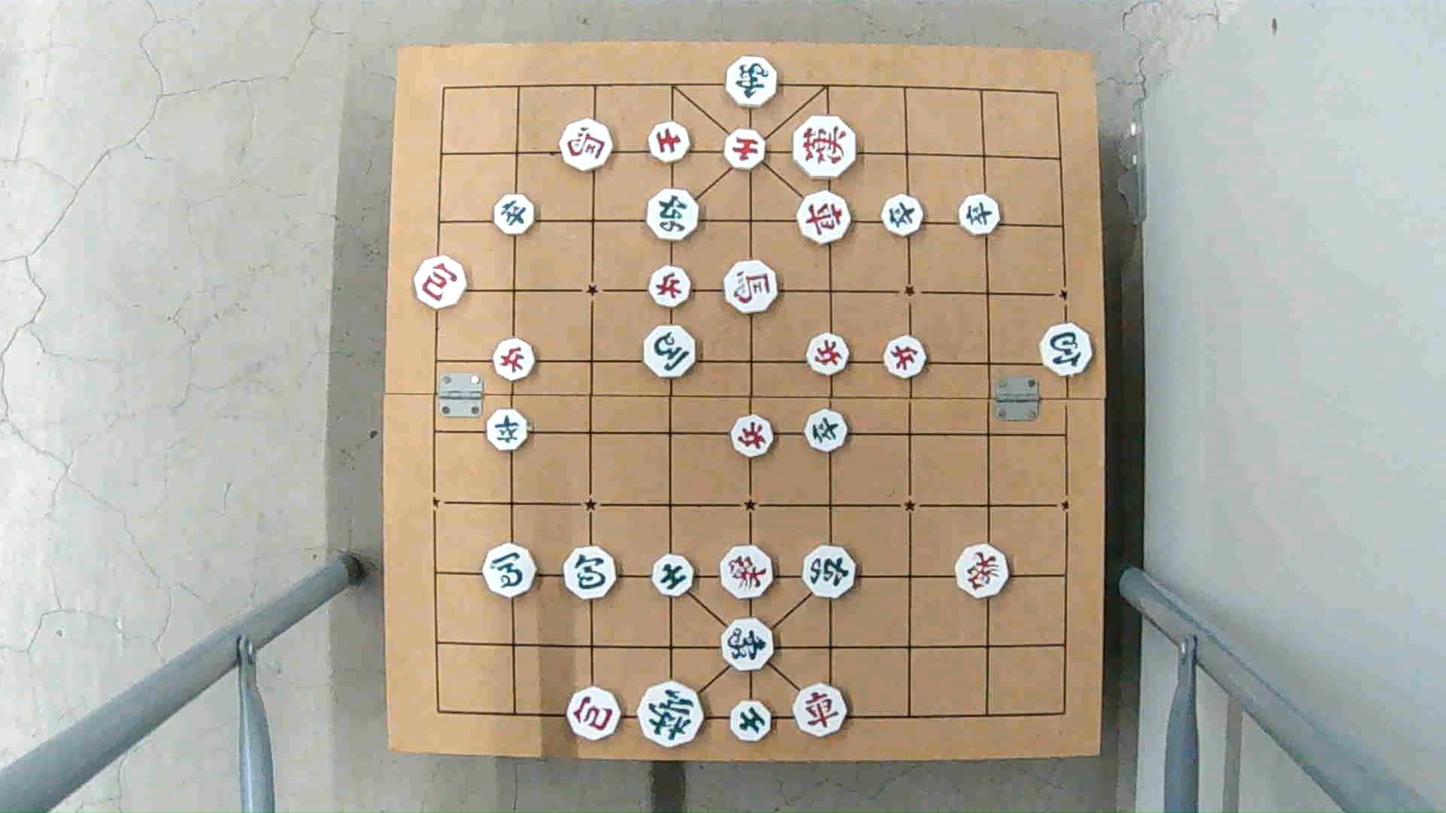cha_green: (643, 187, 702, 238), (806, 547, 858, 599)
cha_red: (792, 685, 848, 734), (798, 192, 853, 239)
jol_green: (802, 413, 847, 452), (492, 196, 536, 235), (484, 413, 529, 451), (880, 197, 923, 236), (958, 196, 1001, 234)
jol_red: (804, 333, 854, 375), (648, 266, 692, 306), (731, 418, 776, 456), (883, 339, 928, 377), (493, 342, 538, 379)
ma_green: (481, 545, 538, 595), (642, 327, 697, 378)
ma_red: (723, 260, 778, 314), (560, 120, 615, 174)
po_green: (563, 548, 619, 598), (1040, 326, 1094, 376)
po_red: (564, 690, 623, 738), (415, 257, 471, 307)
sa_green: (648, 556, 695, 597), (728, 702, 775, 740)
sa_red: (721, 129, 767, 168), (645, 123, 691, 161)
sang_green: (721, 620, 776, 670), (724, 56, 778, 105)
sang_red: (720, 544, 776, 600), (957, 547, 1012, 598)
wang_green: (638, 683, 706, 745)
wang_red: (790, 117, 856, 180)
